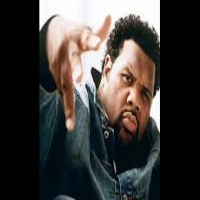ring: (58, 50, 75, 136)
